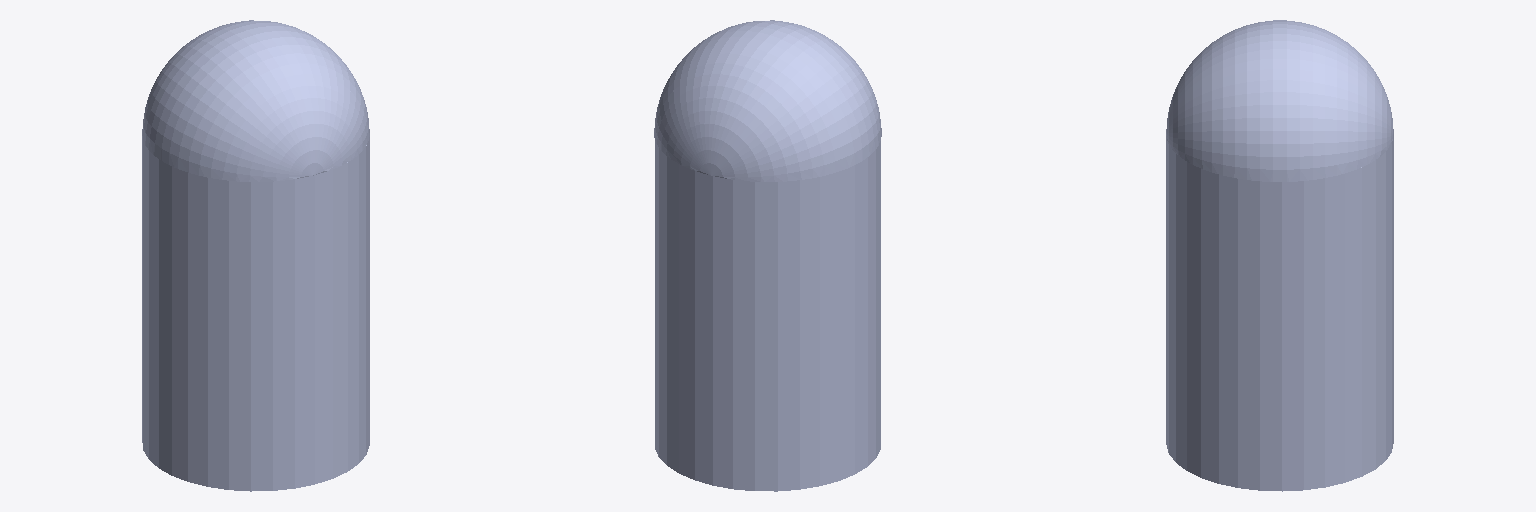
robot.urdf — rocket:
<?xml version="1.0" encoding="utf-8"?>
<!-- This URDF was automatically created by SolidWorks to URDF Exporter! Originally created by [author] ([email redacted]) 
     Commit Version: 1.6.0-1-g15f4949  Build Version: 1.6.7594.29634
     For more information, please see http://wiki.ros.org/sw_urdf_exporter -->
<robot
  name="rocket">
  <link
    name="base_link">
    <inertial>
      <origin
        xyz="1.1895E-17 -1.8601E-16 0.15"
        rpy="0 0 0" />
      <mass
        value="9.4248" />
      <inertia
        ixx="0.094248"
        ixy="-2.1684E-18"
        ixz="2.0398E-18"
        iyy="0.094248"
        iyz="3.8047E-18"
        izz="0.047124" />
    </inertial>
    <visual>
      <origin
        xyz="0 0 0"
        rpy="0 0 0" />
      <geometry>
        <mesh
          filename="package://rocket/meshes/base_link.STL" />
      </geometry>
      <material
        name="">
        <color
          rgba="0.79216 0.81961 0.93333 1" />
      </material>
    </visual>
    <collision>
      <origin
        xyz="0 0 0"
        rpy="0 0 0" />
      <geometry>
        <mesh
          filename="package://rocket/meshes/base_link.STL" />
      </geometry>
    </collision>
  </link>
  <gazebo reference="sensor_link">
    <sensor type="camera" name="camera1">
      ... sensor parameters ...
      <plugin name="camera_controller" filename="libgazebo_ros_camera.so">
        ... plugin parameters ..
      </plugin>
    </sensor>
  </gazebo>
  <link
    name="hat">
    <inertial>
      <origin
        xyz="2.3165E-17 -1.8322E-17 0.0375"
        rpy="0 0 0" />
      <mass
        value="2.0944" />
      <inertia
        ixx="0.0054323"
        ixy="-1.5224E-18"
        ixz="1.3141E-18"
        iyy="0.0054323"
        iyz="-4.1547E-19"
        izz="0.0083776" />
    </inertial>
    <visual>
      <origin
        xyz="0 0 0"
        rpy="0 0 0" />
      <geometry>
        <mesh
          filename="package://rocket/meshes/hat.STL" />
      </geometry>
      <material
        name="">
        <color
          rgba="0.79216 0.81961 0.93333 1" />
      </material>
    </visual>
    <collision>
      <origin
        xyz="0 0 0"
        rpy="0 0 0" />
      <geometry>
        <mesh
          filename="package://rocket/meshes/hat.STL" />
      </geometry>
    </collision>
  </link>
  <joint
    name="base_to_hat"
    type="fixed">
    <origin
      xyz="0 0 0.3"
      rpy="0 0 0" />
    <parent
      link="base_link" />
    <child
      link="hat" />
    <axis
      xyz="0 0 0" />
  </joint>
</robot>

--- Render facts (derived) ---
3 views of the same robot in one strip: view 1: azimuth 30°, elevation 25°; view 2: azimuth 150°, elevation 25°; view 3: azimuth 270°, elevation 25° (orthographic).
Model rocket with 2 links and 1 joints (1 fixed), rooted at base_link, posed all joints at 0.
Links seen in each view (by area): view 1: base_link, hat; view 2: base_link, hat; view 3: base_link, hat.
Link boxes in pixels (x1,y1,x2,y2): base_link: (142, 136, 369, 491); hat: (142, 20, 369, 181); base_link: (655, 141, 880, 491); hat: (654, 20, 881, 181); base_link: (1166, 136, 1393, 491); hat: (1166, 20, 1393, 181).
Bounding box of the posed robot: 0.2 × 0.2 × 0.3997 m (x, y, z).
2 mesh visuals loaded from 2 distinct referenced files (2 binary STL).